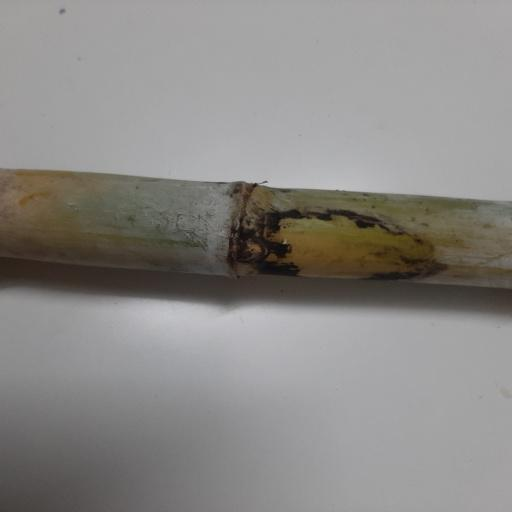Bud: (235, 238, 268, 263)
